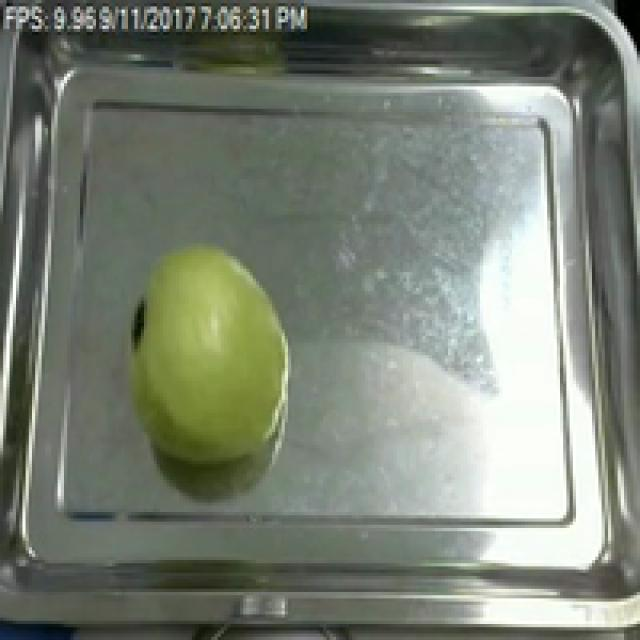Fruit: (109, 234, 304, 480)
